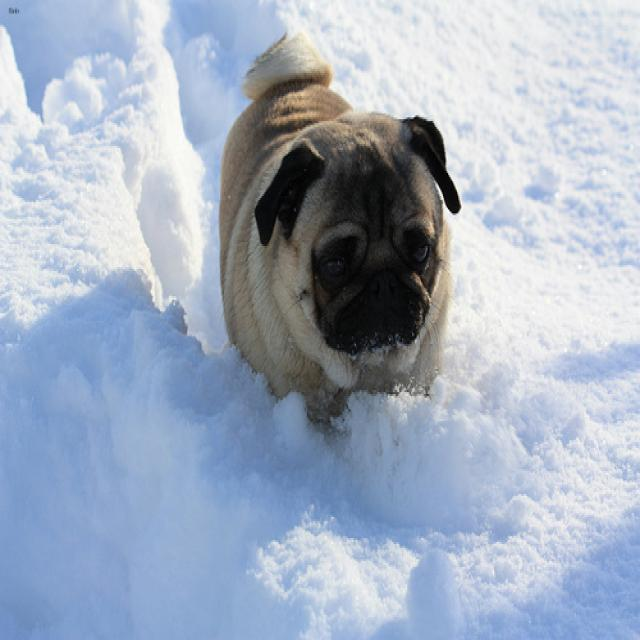dog-pug: (210, 17, 466, 438)
